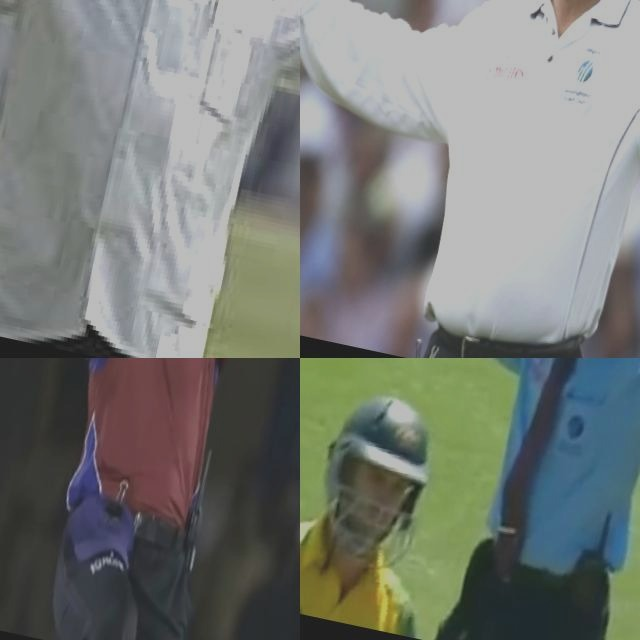Six: (4, 358, 300, 640)
Wide: (300, 0, 640, 358), (0, 0, 300, 358), (300, 358, 640, 640)
